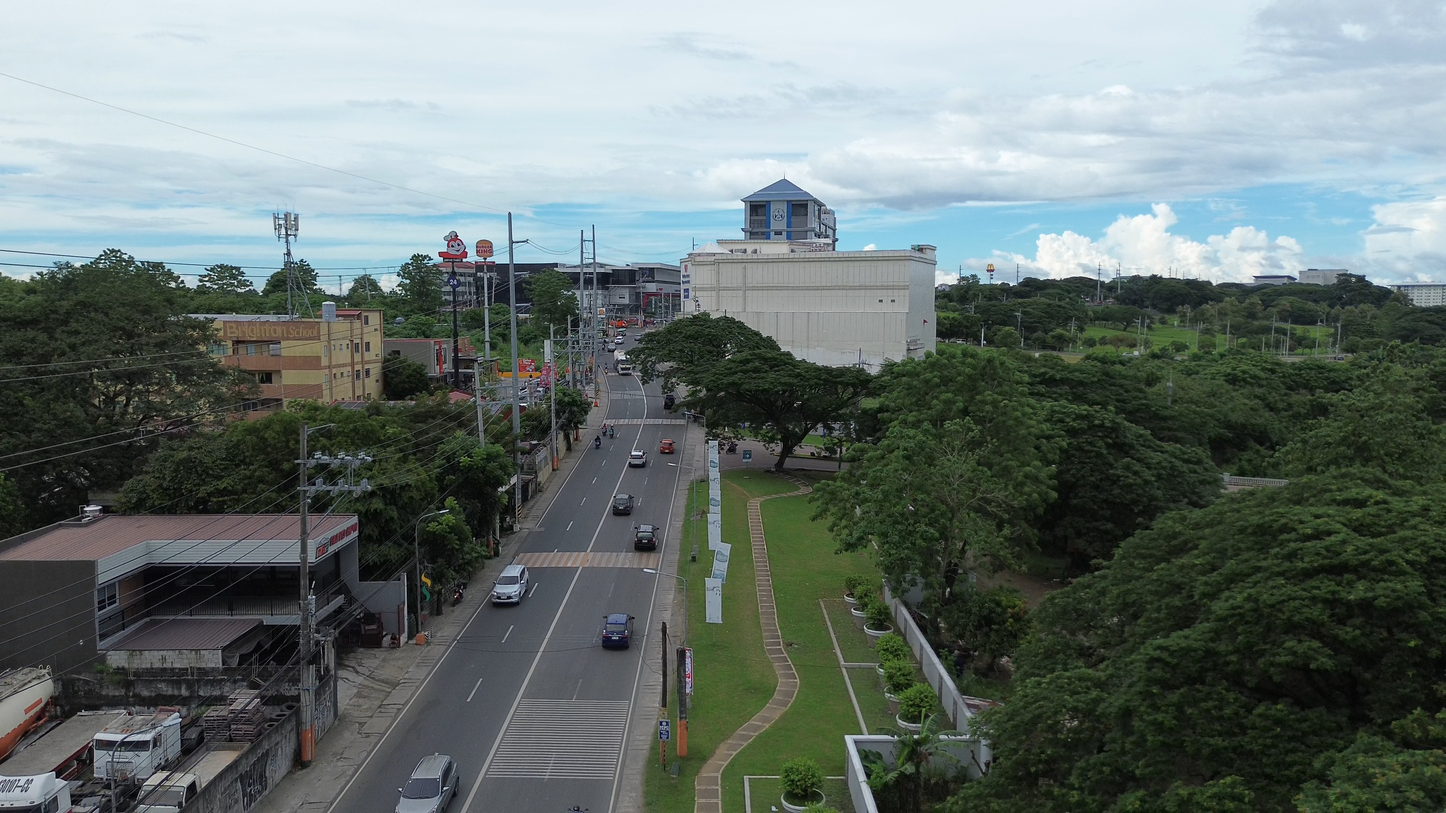car: (395, 753, 457, 813), (601, 613, 633, 648), (635, 524, 657, 550), (627, 450, 647, 467), (659, 438, 675, 453), (613, 335, 624, 345)
motorcycle: (452, 583, 465, 606), (726, 442, 737, 453), (594, 435, 600, 449), (608, 427, 615, 439)
vehicle: (93, 707, 181, 780), (0, 667, 54, 759), (0, 772, 72, 811), (133, 771, 199, 813), (491, 565, 529, 604), (611, 494, 633, 515), (452, 582, 464, 606), (664, 393, 676, 410), (725, 441, 737, 454), (613, 335, 624, 345), (594, 435, 600, 448)
